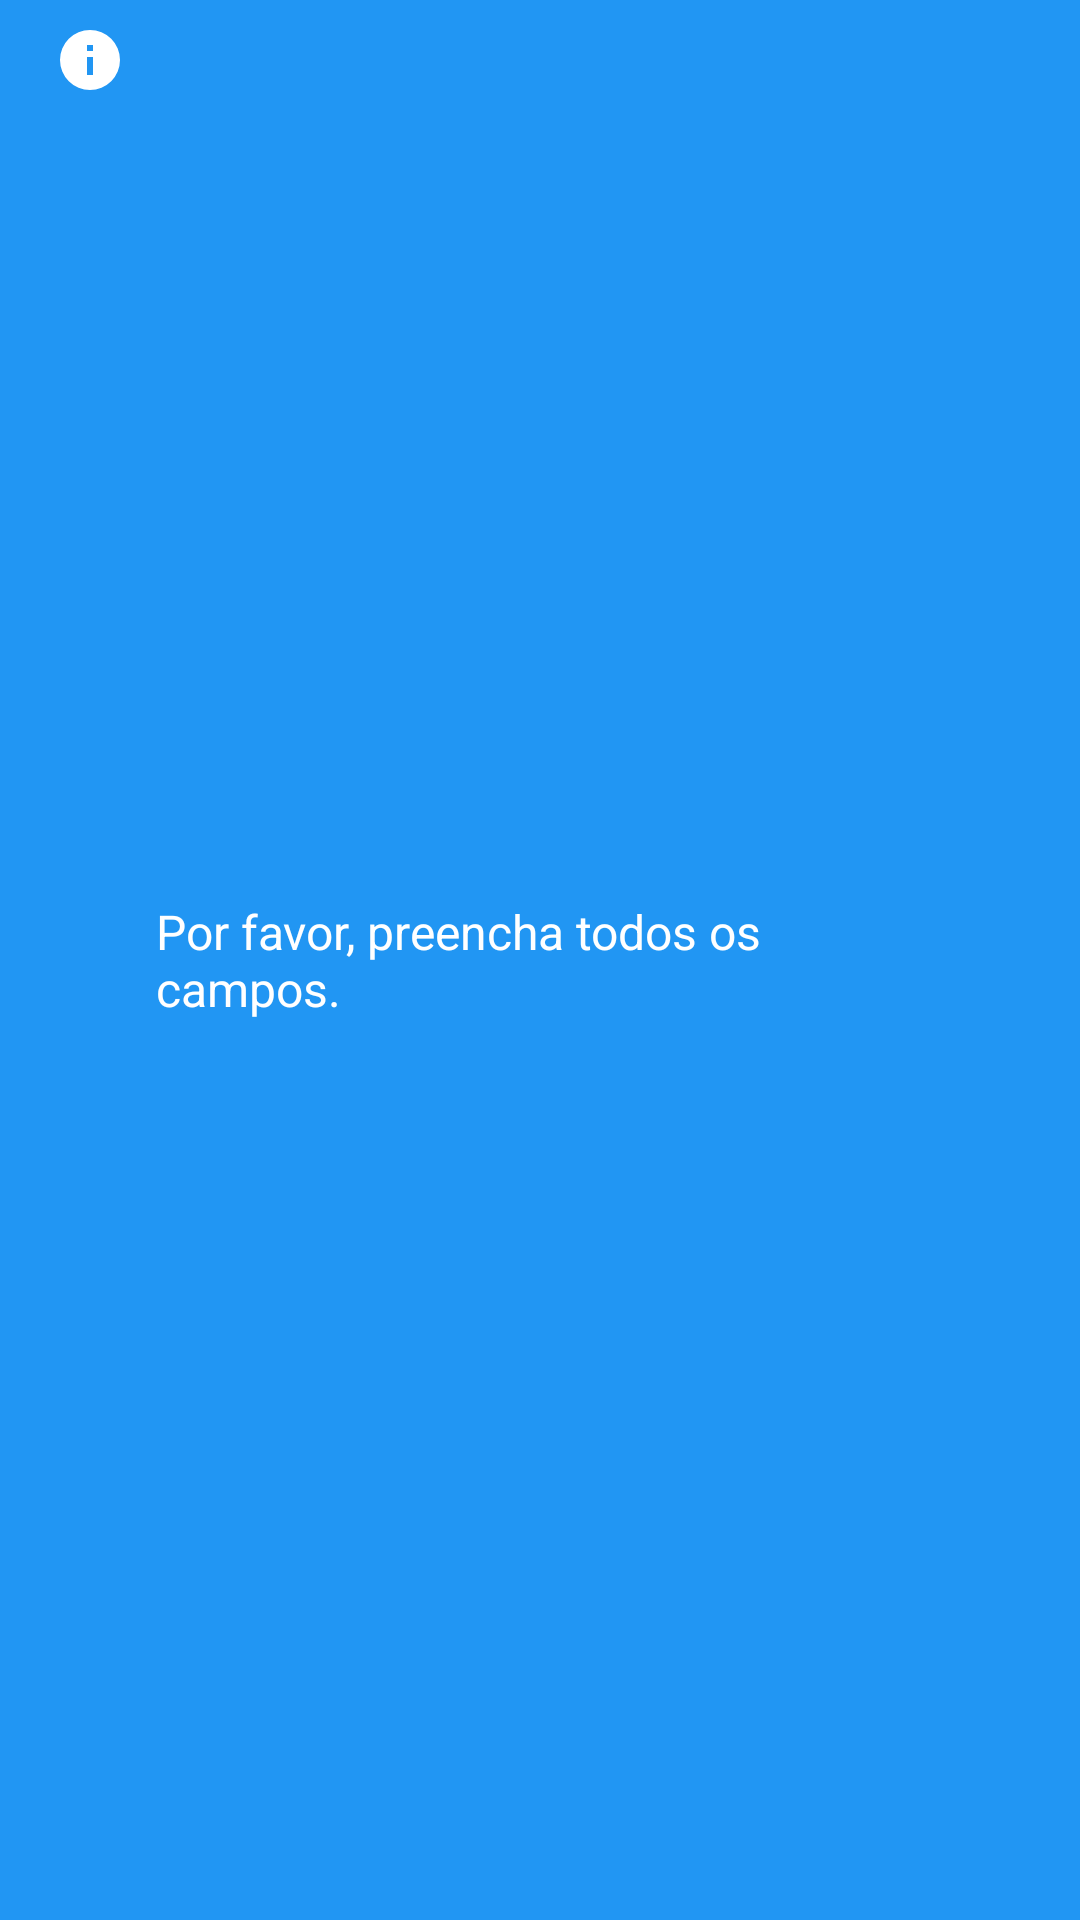

Screen size 1080x1920. Icon name, then its center in pixels as point (x, y):
information: point (90, 60)
